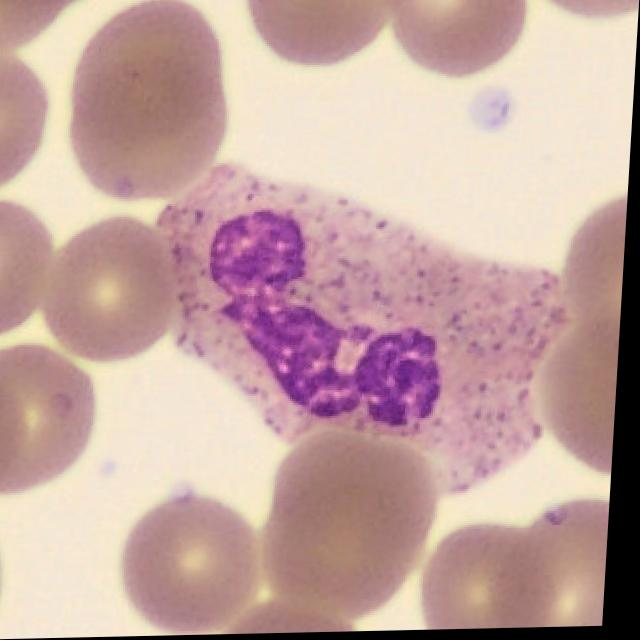Neutrofilo segmentado: (162, 164, 571, 494)
